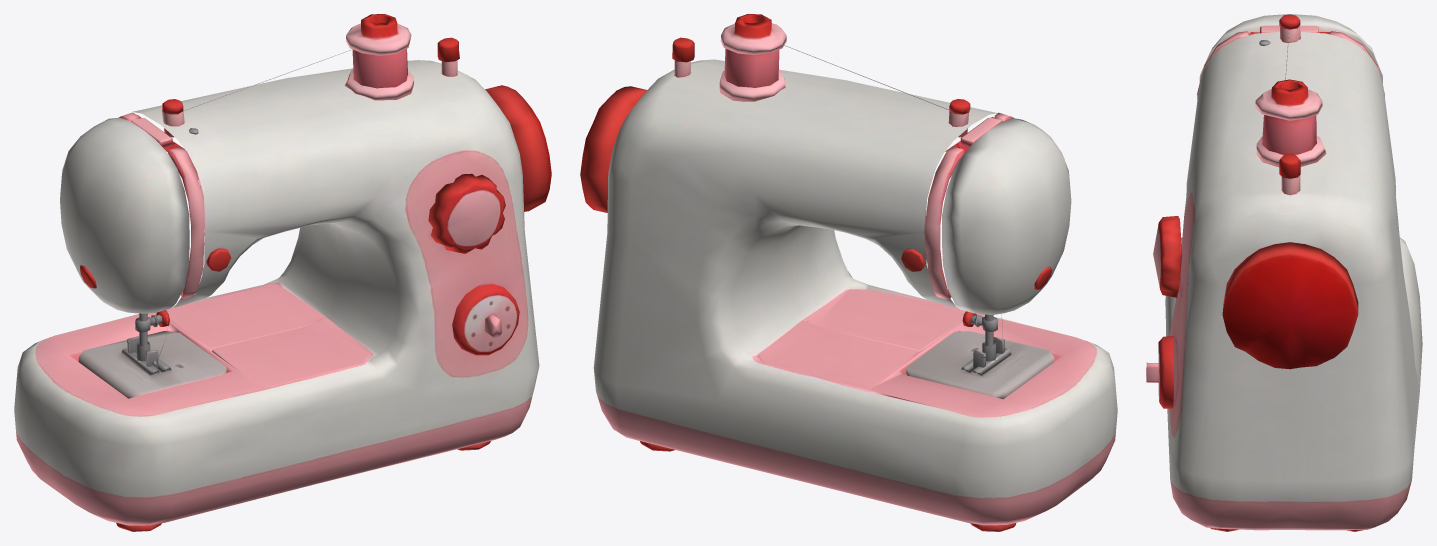
File: sewing.glb
The picture shows the model from 3 angles, left to right: view 1: azimuth 30°, elevation 25°; view 2: azimuth 150°, elevation 25°; view 3: azimuth 270°, elevation 25°; orthographic projection.
Visible parts, largest first — view 1: geometry_0; view 2: geometry_0; view 3: geometry_0.
Boxes of the visible parts, box(x1,y1,x2,y2) form: geometry_0: box(14, 14, 551, 531); geometry_0: box(580, 14, 1117, 531); geometry_0: box(1146, 14, 1422, 531).
Bounding box in the file's own units: 95.31 × 78.81 × 48.14.
1 material, 1 textured.
